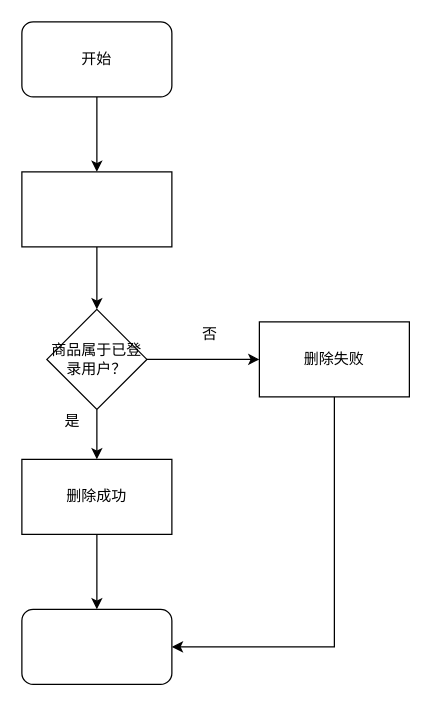
The diagram is 431 pixels wide and 706 high, and some of its shapes have lost their labels. Each missing label, with the centre of its shape:
删除商品: the point at 96,209
结束: the point at 96,646
